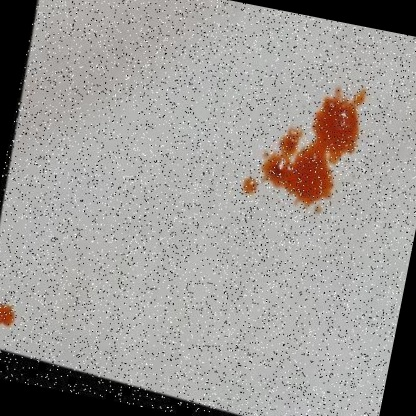kimchi: (235, 71, 371, 227), (0, 294, 16, 333)
